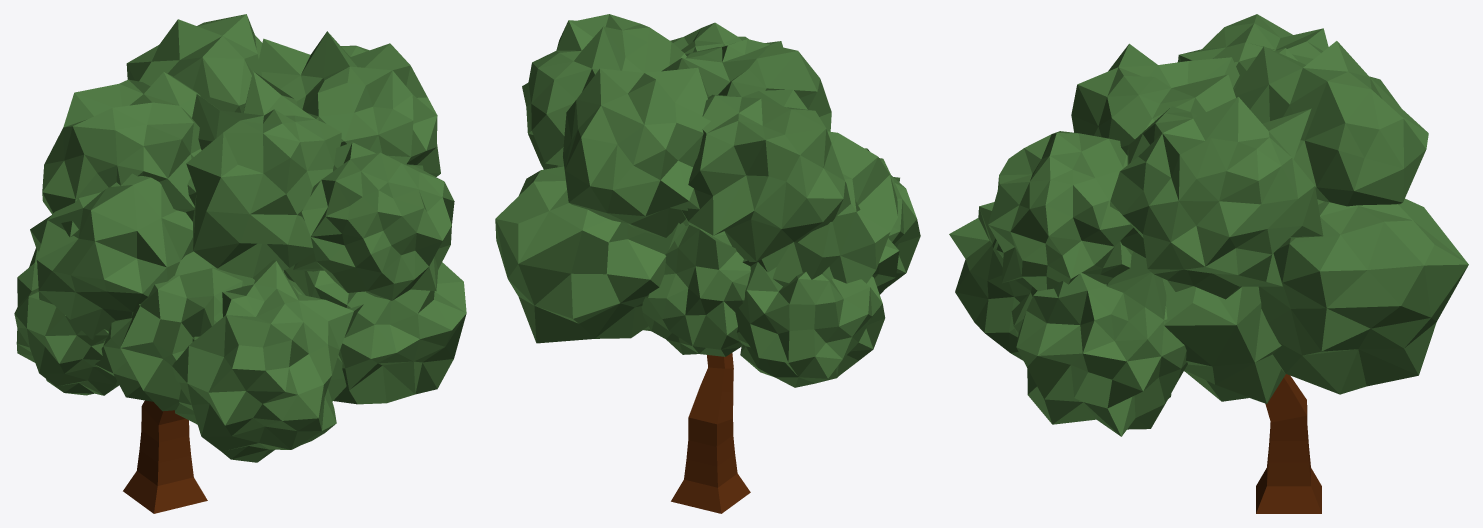
The model's file is tree.fbx.
3 renders of one model, left to right at view 1: azimuth 30°, elevation 25°; view 2: azimuth 150°, elevation 25°; view 3: azimuth 270°, elevation 25°, orthographic. The views are drawn at different scales.
Visible parts, largest first — view 1: Cube; view 2: Cube; view 3: Cube.
Boxes of the visible parts, <box> form: Cube: <box>14,14,466,513</box>; Cube: <box>495,14,920,513</box>; Cube: <box>949,14,1468,513</box>.
Size of the model in its own units: 522 by 580 by 572.
